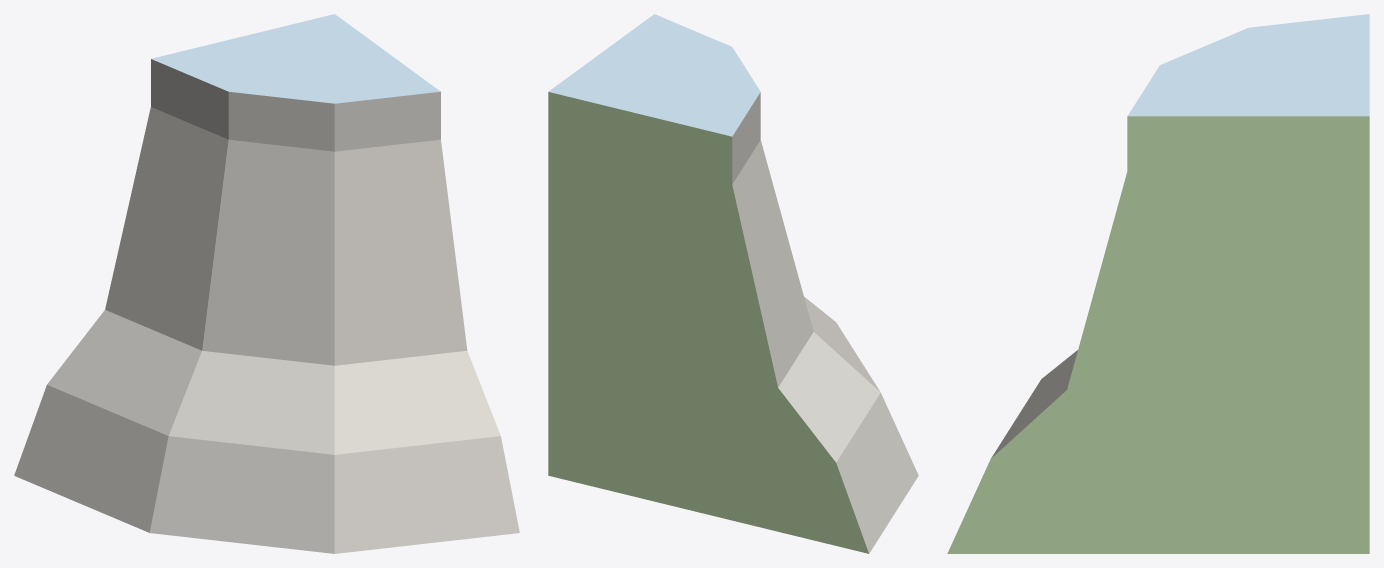
File: Wall_Curve_Outer_2x2_Base.glb
3 views of the same model, side by side, from view 1: azimuth 30°, elevation 25°; view 2: azimuth 150°, elevation 25°; view 3: azimuth 270°, elevation 25° (orthographic). The views are drawn at different scales.
Visible parts, largest first — view 1: Wall_Curve_Outer_2x2_Base; view 2: Wall_Curve_Outer_2x2_Base; view 3: Wall_Curve_Outer_2x2_Base.
Boxes of the visible parts, box(x1,y1,x2,y2) form: Wall_Curve_Outer_2x2_Base: box(14, 14, 519, 553); Wall_Curve_Outer_2x2_Base: box(548, 14, 918, 553); Wall_Curve_Outer_2x2_Base: box(947, 14, 1369, 553).
Size of the model in its own units: 175 by 200 by 175.
